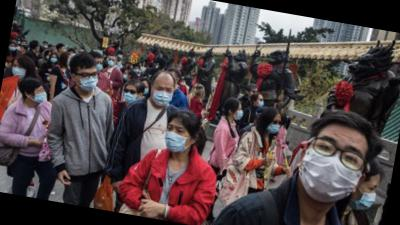mask_weared_incorrect: (180, 80, 186, 86)
with_mask: (295, 130, 370, 209), (162, 121, 193, 155), (351, 181, 379, 213), (150, 83, 176, 108), (75, 68, 100, 93), (10, 62, 28, 80), (123, 86, 139, 104), (267, 117, 283, 135), (32, 86, 47, 103), (233, 105, 246, 122), (93, 59, 104, 73), (140, 83, 150, 96), (107, 56, 116, 67), (256, 97, 265, 108), (49, 56, 58, 64), (122, 71, 130, 80), (9, 43, 17, 51), (134, 66, 140, 73)
